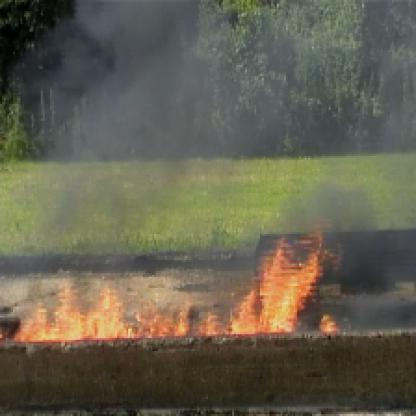Fire: (11, 224, 344, 354)
Smoke: (26, 2, 414, 243)
